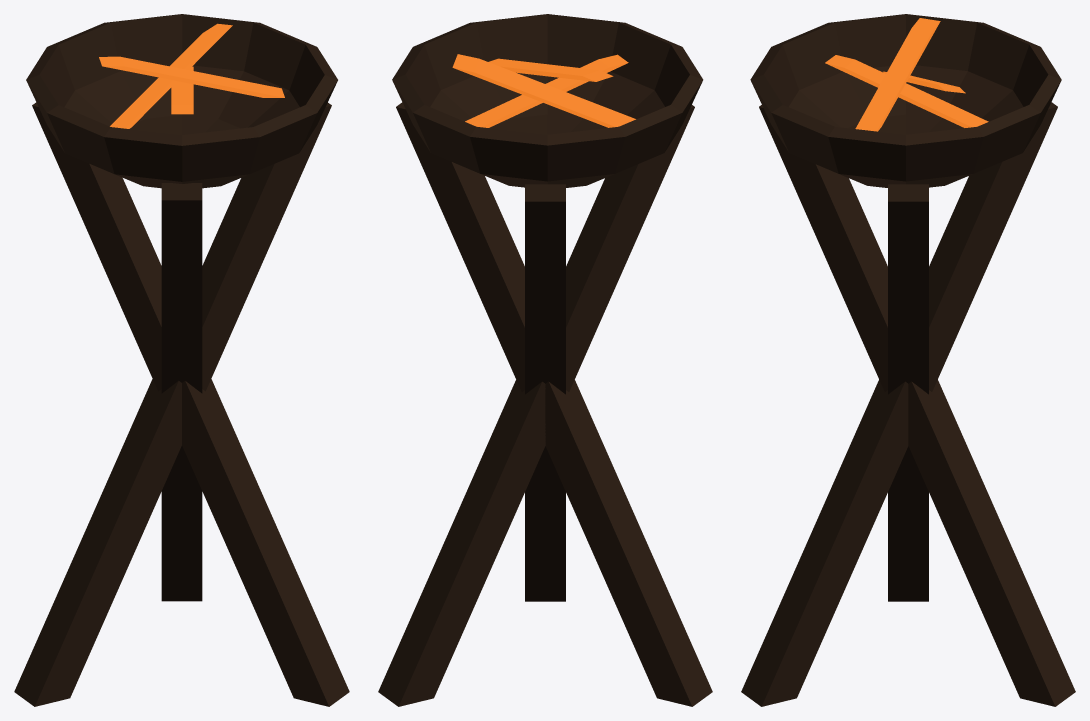
Rendered from Torch.glb.
3 views of the same model, side by side, from view 1: azimuth 30°, elevation 25°; view 2: azimuth 150°, elevation 25°; view 3: azimuth 270°, elevation 25° (orthographic).
Parts seen in each view (by area): view 1: Cube.001; view 2: Cube.001; view 3: Cube.001.
Part boxes in pixels (x1,y1,x2,y2): Cube.001: [14, 14, 349, 706]; Cube.001: [378, 14, 712, 706]; Cube.001: [741, 14, 1075, 706].
Size of the model in its own units: 1.18 by 2.3 by 1.15.
